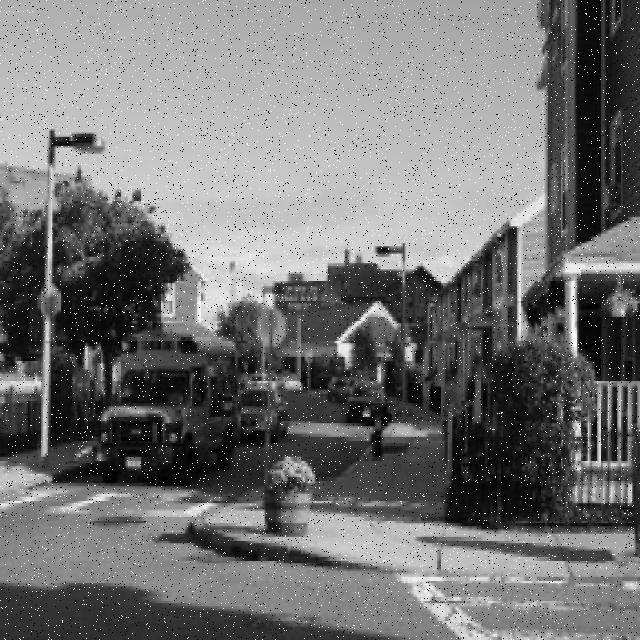Bus- Small: (95, 327, 240, 483)
